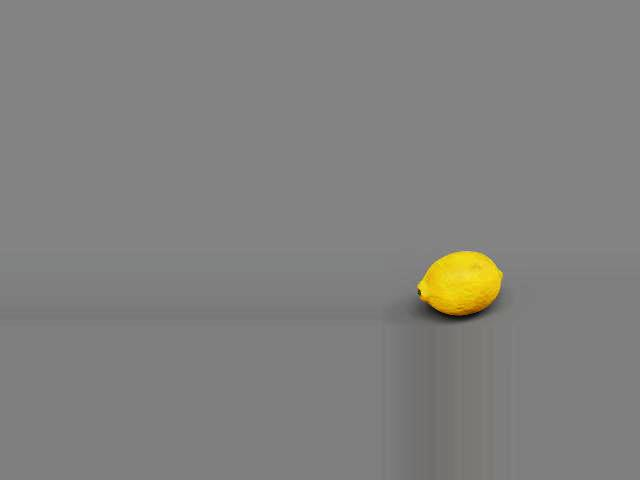lemon: (396, 246, 511, 316)
